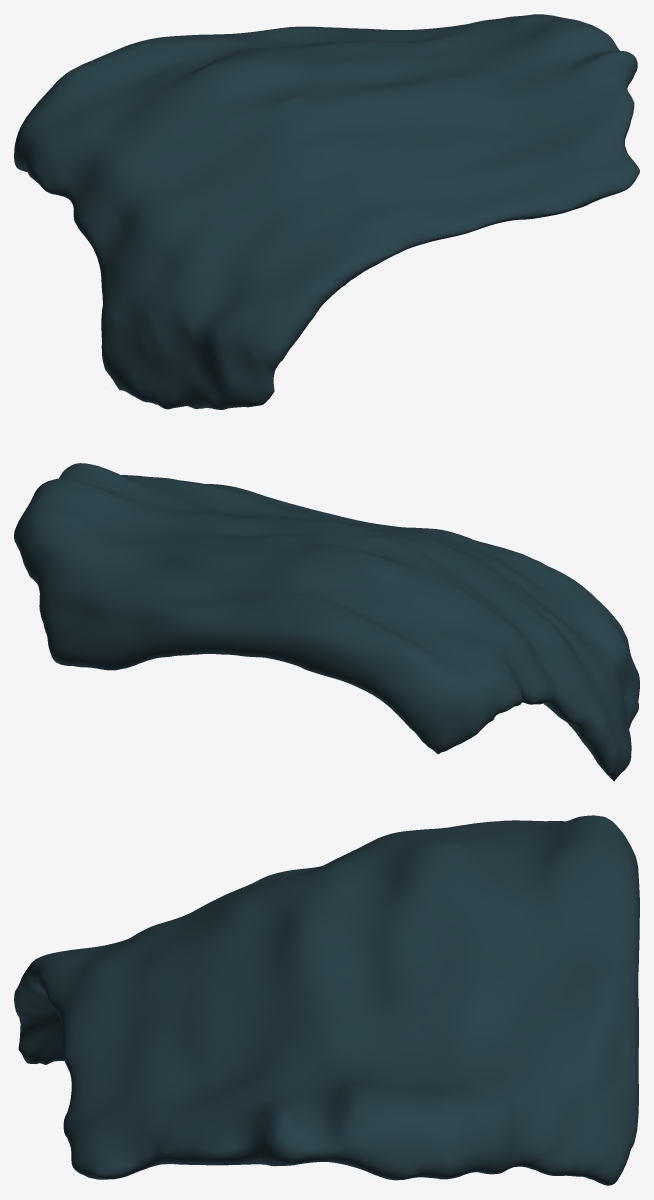
Rendered from Segmentation.obj.
3 views of the same model, one above another, from view 1: azimuth 30°, elevation 25°; view 2: azimuth 150°, elevation 25°; view 3: azimuth 270°, elevation 25° (orthographic). The views are drawn at different scales.
Visible parts, largest first — view 1: grp1; view 2: grp1; view 3: grp1.
Part boxes in pixels (x1,y1,x2,y2): grp1: (14, 14, 639, 409); grp1: (14, 463, 639, 781); grp1: (14, 815, 639, 1185).
Bounding box in the file's own units: 38.19 × 16.9 × 27.05.
